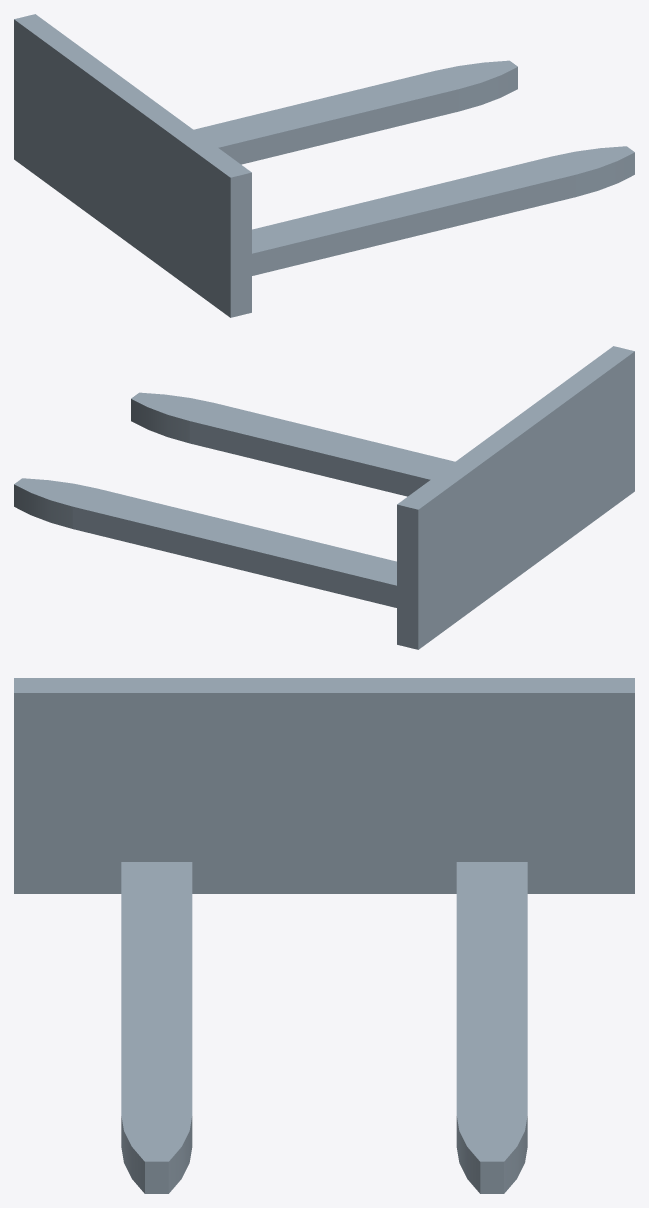
Rendered from sideshift_link.dae.
3 views of the same model, one above another, from view 1: azimuth 30°, elevation 25°; view 2: azimuth 150°, elevation 25°; view 3: azimuth 270°, elevation 25° (orthographic). The views are drawn at different scales.
Visible parts, largest first — view 1: ID2; view 2: ID2; view 3: ID2.
Boxes of the visible parts, bbox=[...] form: ID2: bbox=[14, 14, 634, 317]; ID2: bbox=[14, 346, 634, 649]; ID2: bbox=[14, 678, 634, 1193].
Bounding box in the file's own units: 0.84 × 0.7 × 0.25.
